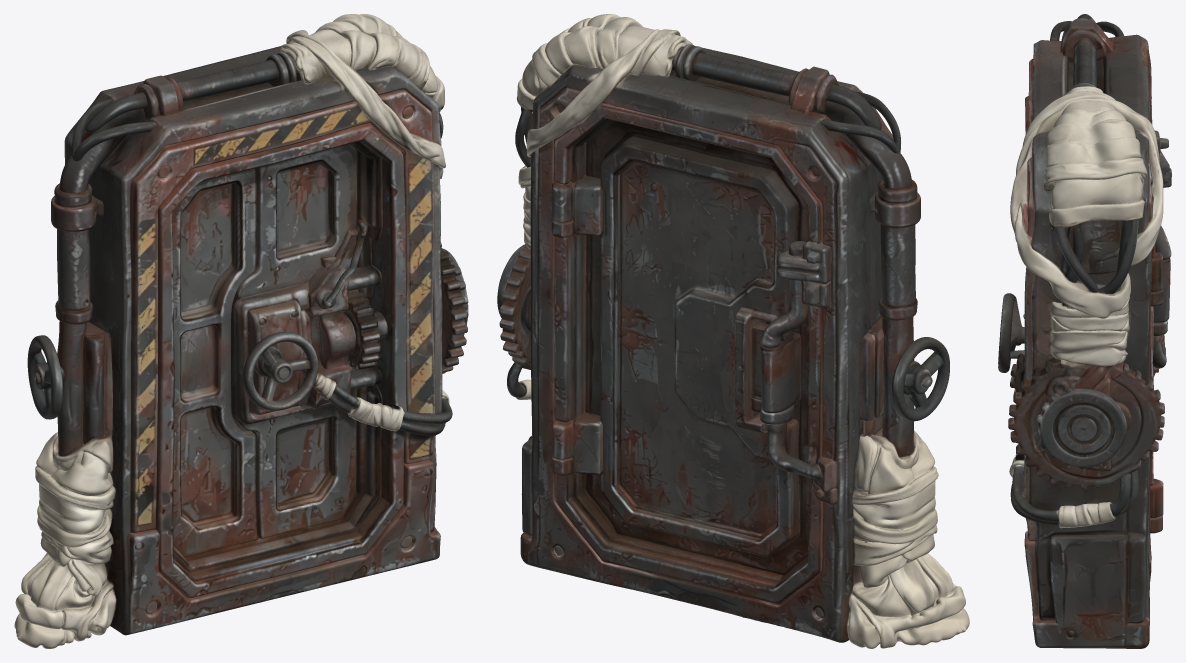
Rendered from base_basic_pbr(3).glb.
3 views of the same model, side by side, from view 1: azimuth 30°, elevation 25°; view 2: azimuth 150°, elevation 25°; view 3: azimuth 270°, elevation 25° (orthographic). The views are drawn at different scales.
Visible parts, largest first — view 1: model; view 2: model; view 3: model.
Boxes of the visible parts, <box> form: model: <box>14,14,468,648</box>; model: <box>497,14,969,648</box>; model: <box>998,14,1171,648</box>.
Bounding box in the file's own units: 1.65 × 1.9 × 0.5857.
Materials: 1 (1 with a texture image).
